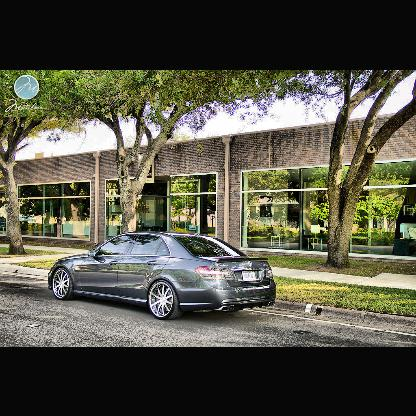Mercedes-Benz E-Class Sedan 2012: (49, 231, 278, 321)
